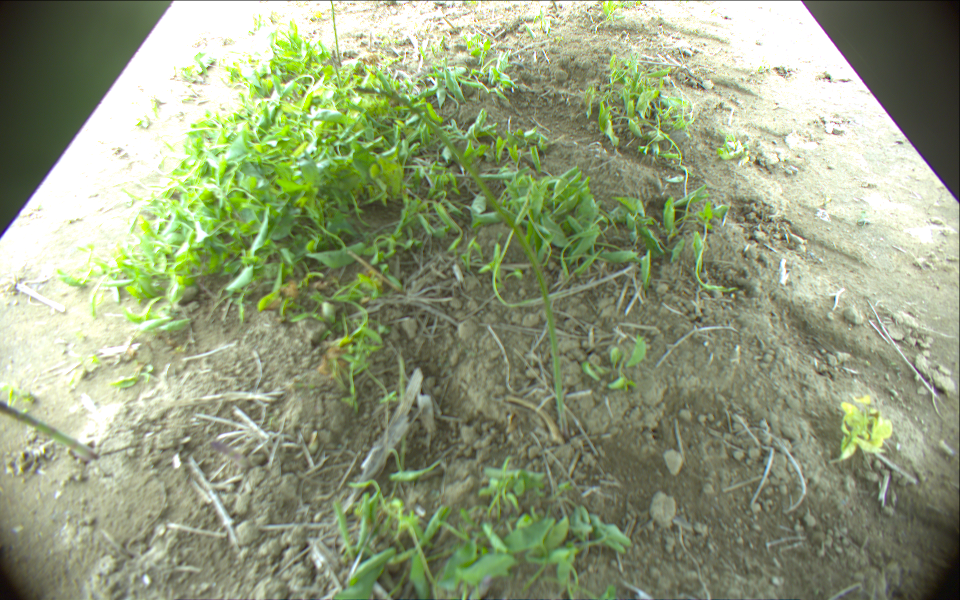aspa: (355, 81, 573, 436), (1, 398, 99, 463), (327, 1, 346, 84)
